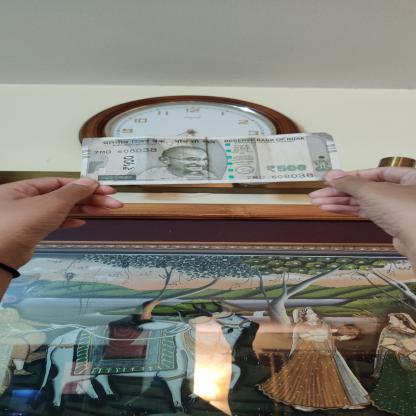New500Front: (78, 132, 341, 184)
